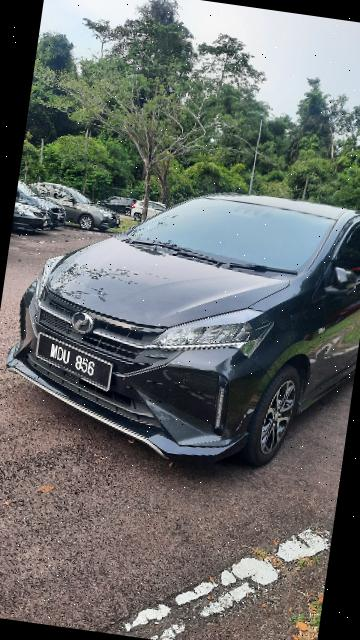License_Plate: (31, 330, 120, 397)
car: (1, 159, 360, 482)
